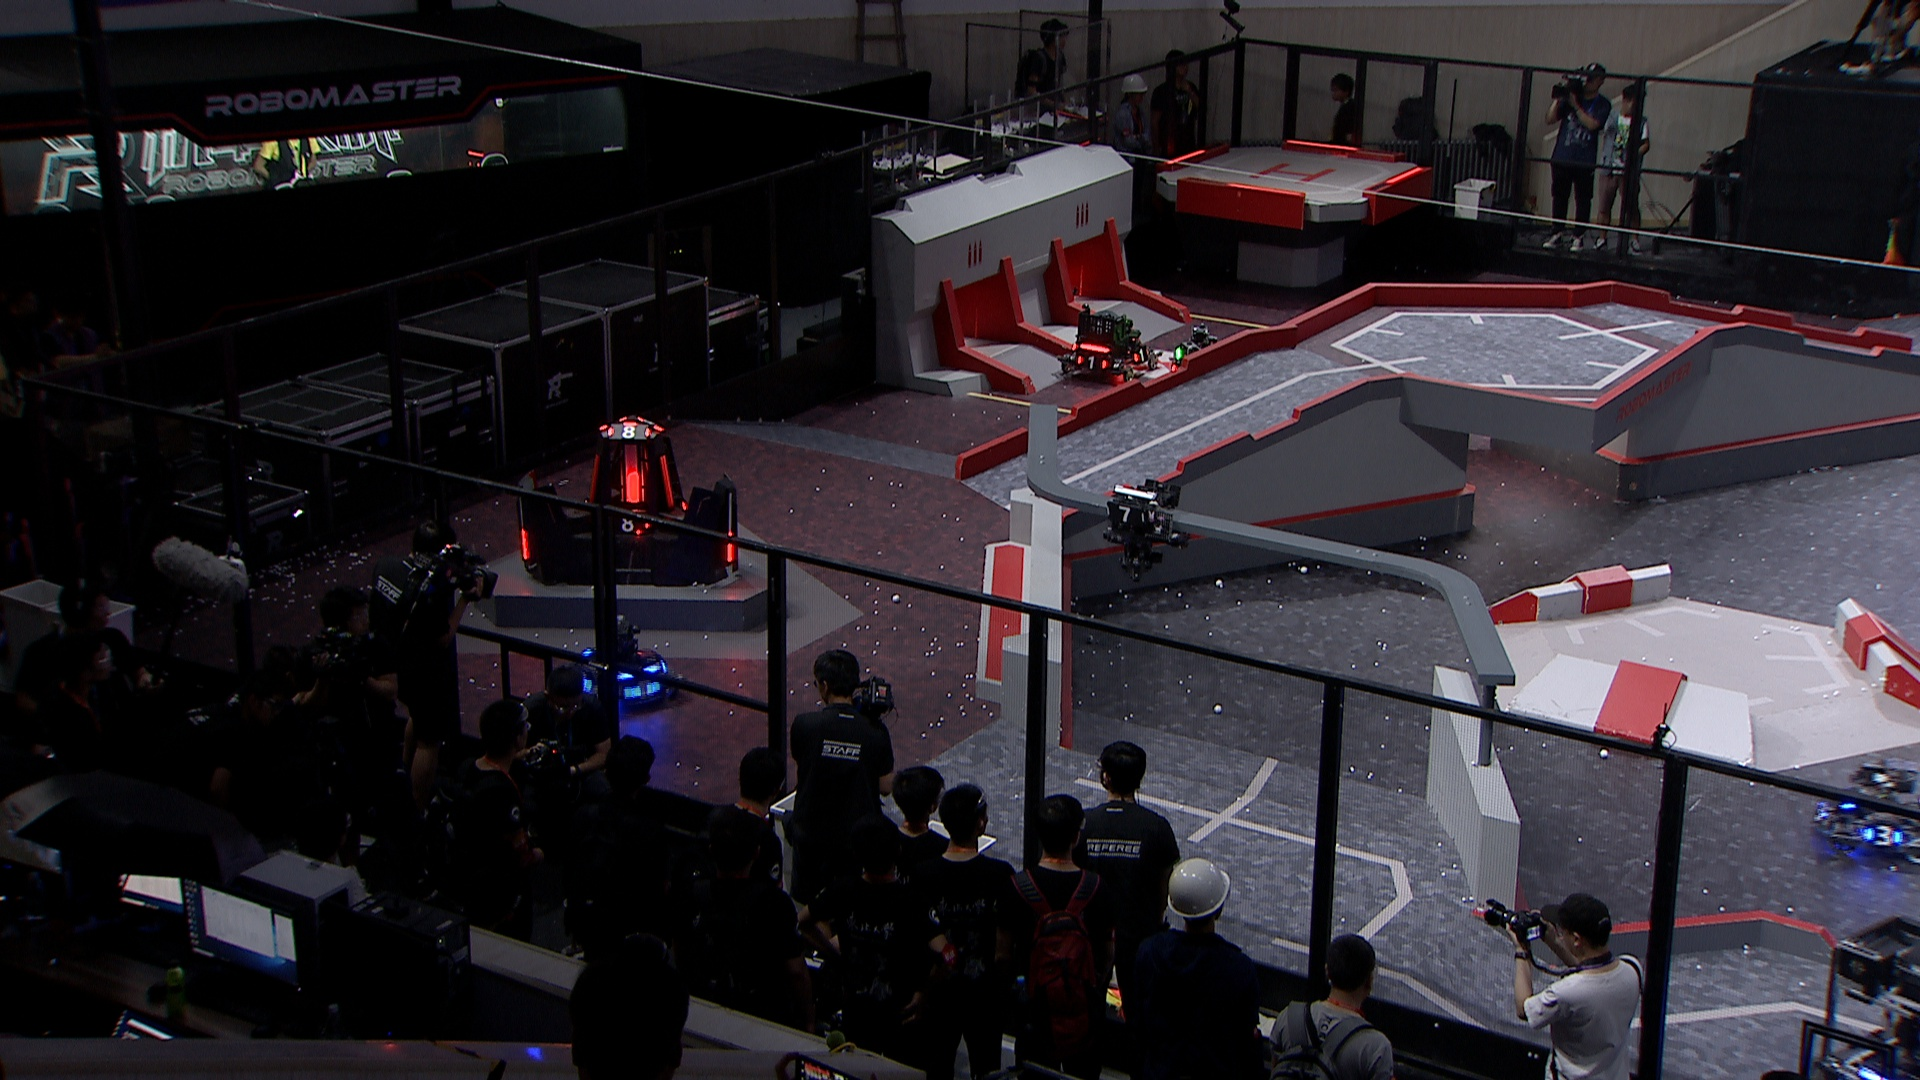armor: (1102, 502, 1149, 526), (584, 452, 603, 508), (659, 454, 676, 512), (618, 680, 662, 703), (1861, 825, 1905, 847), (604, 425, 655, 442), (622, 469, 645, 506), (1073, 353, 1110, 373), (613, 517, 651, 534), (517, 526, 533, 564), (1130, 345, 1153, 367), (723, 541, 738, 564)
base: (513, 414, 741, 589)
car: (1817, 913, 1920, 1080), (560, 615, 686, 717), (1807, 761, 1920, 868), (1058, 305, 1156, 385), (1171, 320, 1242, 378)
watcher: (1098, 476, 1188, 583)
